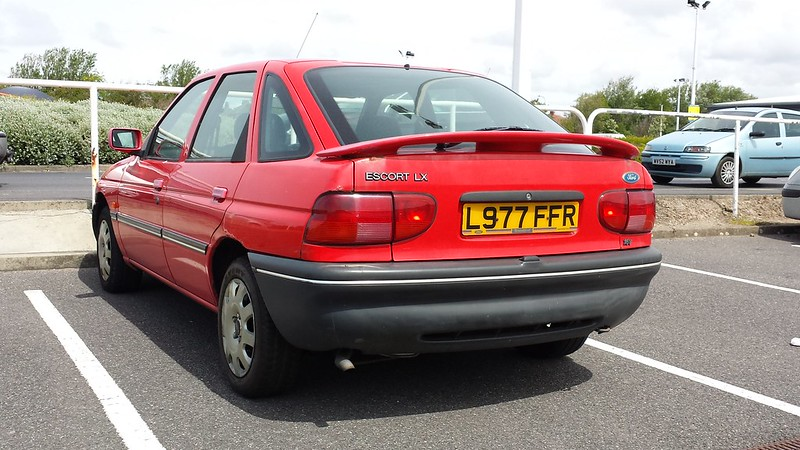number_plate: (457, 194, 587, 240), (645, 155, 691, 174)
